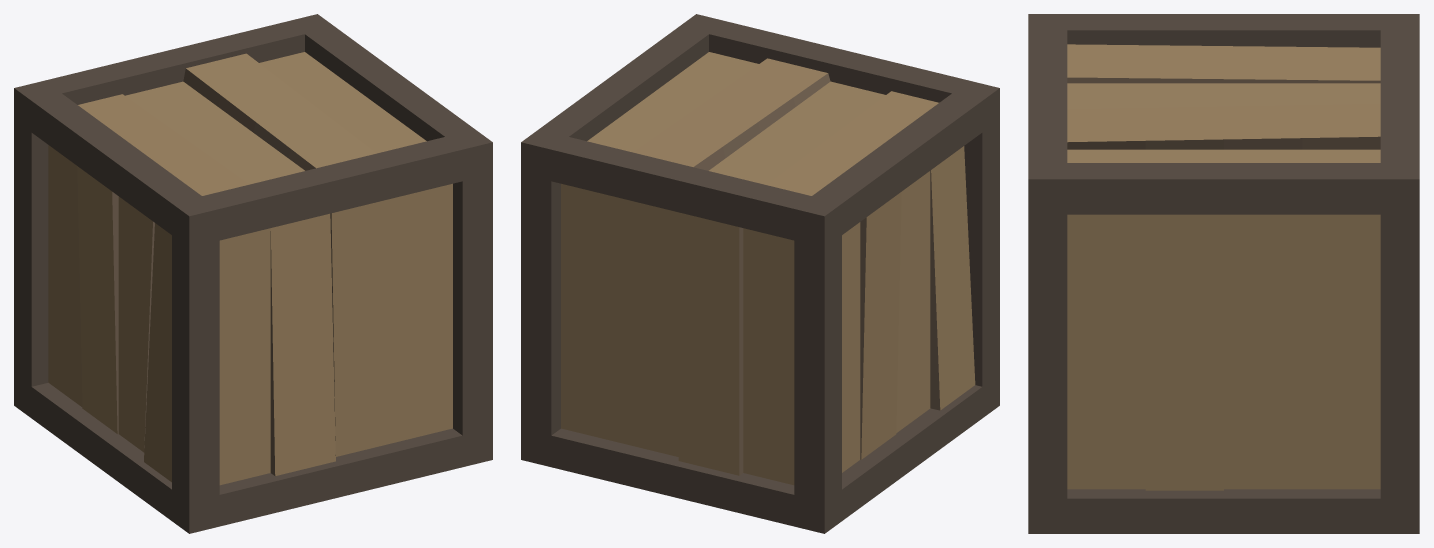
The model's file is WoodenBox.fbx.
The picture shows the model from 3 angles, left to right: view 1: azimuth 30°, elevation 25°; view 2: azimuth 150°, elevation 25°; view 3: azimuth 270°, elevation 25°; orthographic projection. The views are drawn at different scales.
Parts seen in each view (by area): view 1: Cube; view 2: Cube; view 3: Cube.
Boxes of the visible parts, bbox=[...] form: Cube: bbox=[14, 14, 492, 533]; Cube: bbox=[521, 14, 999, 533]; Cube: bbox=[1028, 14, 1419, 533].
Size of the model in its own units: 200 by 200 by 200.
